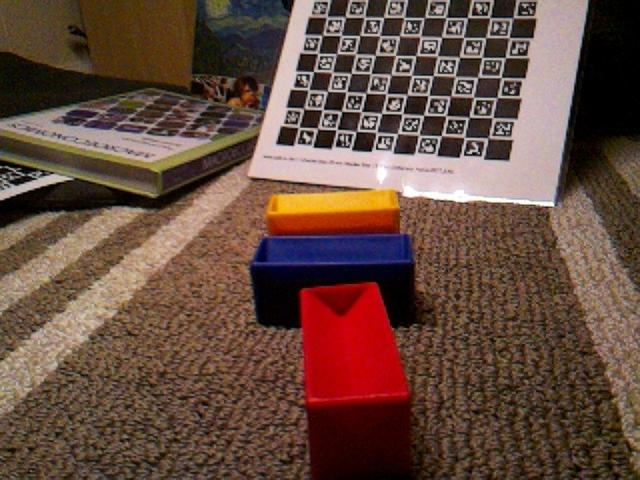blue: (249, 231, 417, 330)
red: (298, 280, 414, 480)
yellow: (264, 188, 402, 235)
